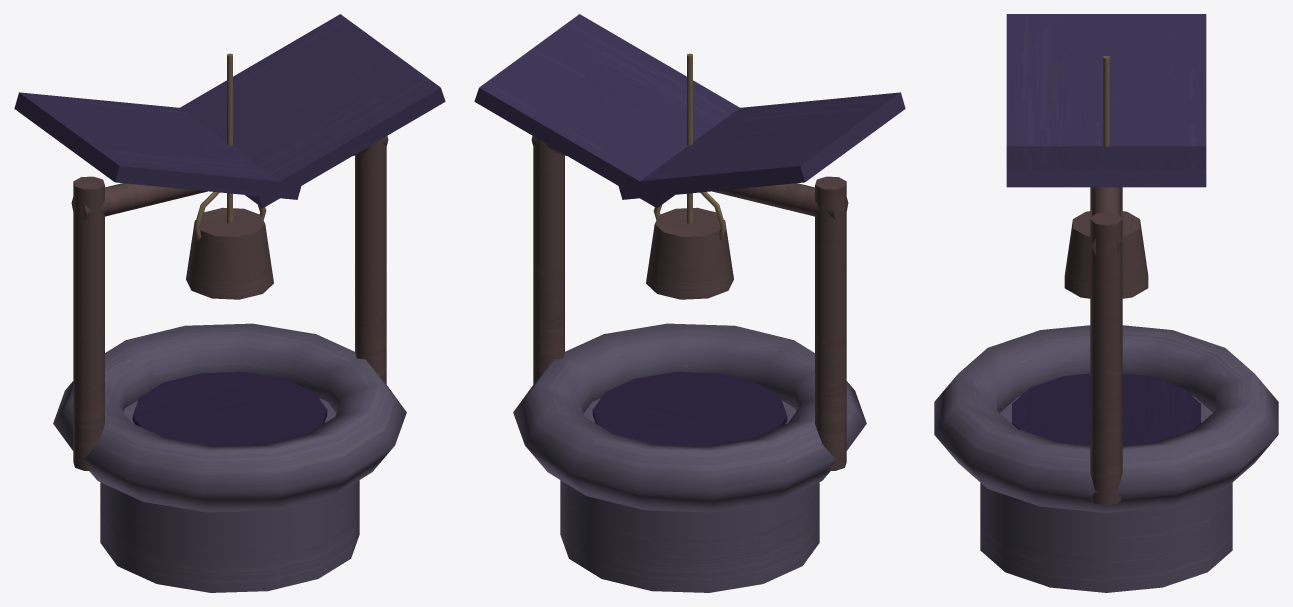
File: puits.glb
The picture shows the model from 3 angles, left to right: view 1: azimuth 30°, elevation 25°; view 2: azimuth 150°, elevation 25°; view 3: azimuth 270°, elevation 25°; orthographic projection.
Visible parts, largest first — view 1: Margelle, ToitD, Cuve, ToitG, Eau, PoteauG, PoteauD, Seau, Traverse, Corde; view 2: Margelle, ToitD, Cuve, ToitG, Eau, PoteauG, PoteauD, Seau, Traverse, Corde; view 3: Margelle, ToitG, Cuve, PoteauD, Eau, ToitD, Seau, Traverse, Corde.
Boxes of the visible parts, <box> form: Margelle: <box>53,323,406,512</box>; ToitD: <box>180,14,445,207</box>; Cuve: <box>100,398,359,592</box>; ToitG: <box>14,92,301,199</box>; Eau: <box>132,372,327,446</box>; PoteauG: <box>73,176,104,470</box>; PoteauD: <box>355,138,386,384</box>; Seau: <box>186,207,273,299</box>; Traverse: <box>71,136,388,220</box>; Corde: <box>227,53,232,223</box>; Margelle: <box>513,323,866,512</box>; ToitD: <box>474,14,739,207</box>; Cuve: <box>560,398,819,592</box>; ToitG: <box>618,92,905,199</box>; Eau: <box>592,372,787,446</box>; PoteauG: <box>815,176,846,470</box>; PoteauD: <box>533,138,564,384</box>; Seau: <box>646,207,733,299</box>; Traverse: <box>531,136,848,220</box>; Corde: <box>687,53,692,223</box>; Margelle: <box>934,325,1278,512</box>; ToitG: <box>1006,14,1206,146</box>; Cuve: <box>980,396,1232,592</box>; PoteauD: <box>1090,212,1122,505</box>; Eau: <box>1012,373,1200,445</box>; ToitD: <box>1006,146,1206,187</box>; Seau: <box>1064,211,1148,298</box>; Traverse: <box>1091,187,1121,254</box>; Corde: <box>1103,55,1109,146</box>.
Bounding box in the file's own units: 1.29 × 1.81 × 1.17.
5 materials, 5 textured.
